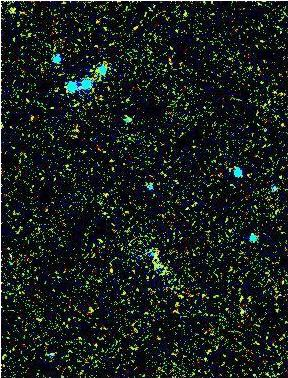star: (18, 101, 48, 131)
